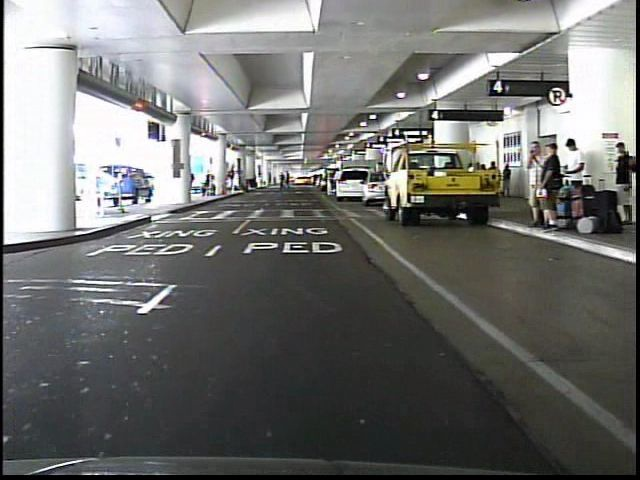person: (520, 139, 544, 226)
